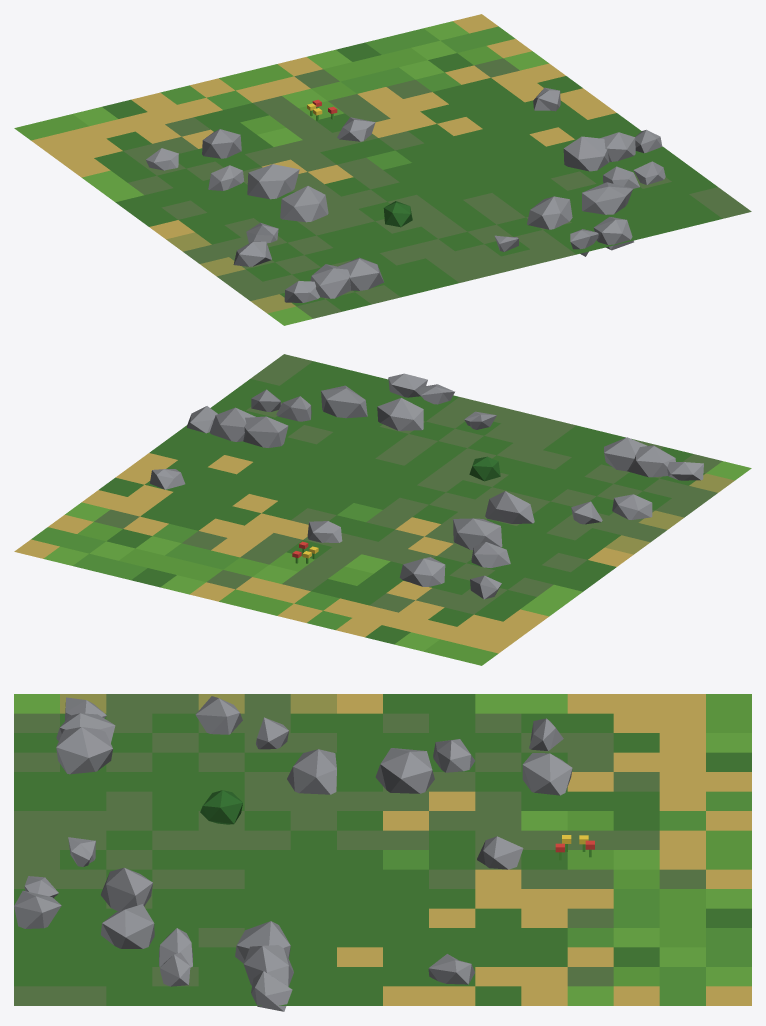
The model's file is chunk_8_14.glb.
3 renders of one model, top to bottom at view 1: azimuth 30°, elevation 25°; view 2: azimuth 150°, elevation 25°; view 3: azimuth 270°, elevation 25°, orthographic. The views are drawn at different scales.
Parts seen in each view (by area): view 1: chunk_8_14; view 2: chunk_8_14; view 3: chunk_8_14.
Boxes of the visible parts, x1,y1,x2,y2 form: chunk_8_14: [14, 14, 751, 325]; chunk_8_14: [14, 354, 751, 665]; chunk_8_14: [14, 694, 751, 1011].
Size of the model in its own units: 16.02 by 1.35 by 16.
